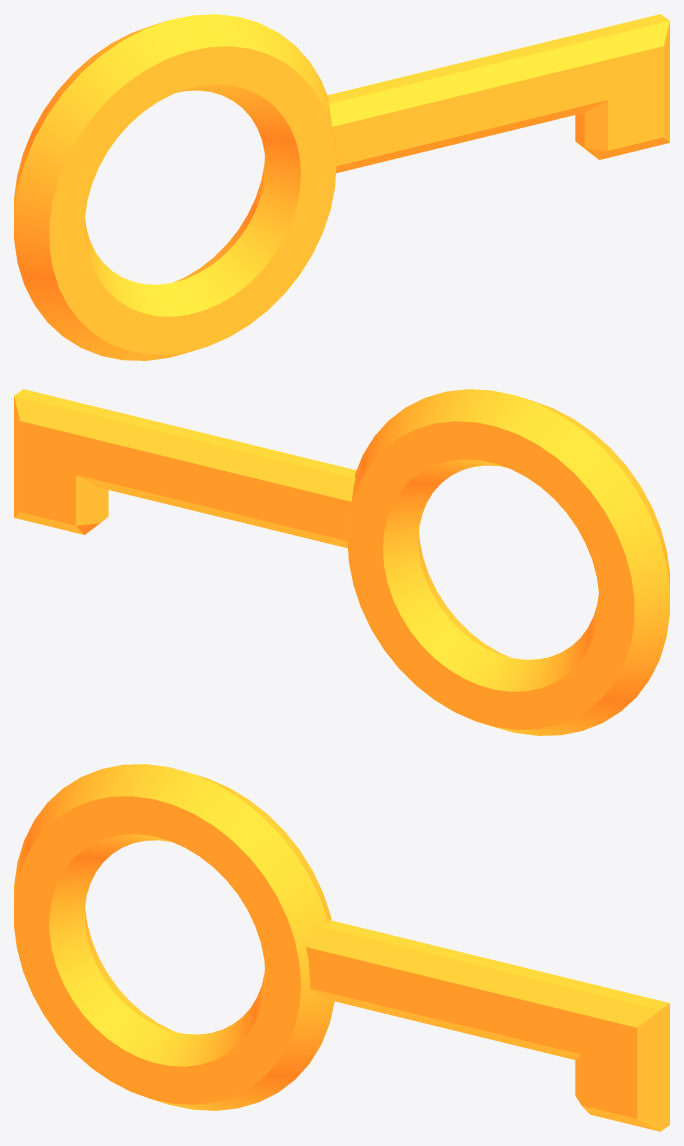
The model's file is Anahtar.fbx.
3 views of the same model, one above another, from view 1: azimuth 30°, elevation 25°; view 2: azimuth 150°, elevation 25°; view 3: azimuth 330°, elevation 25° (orthographic).
Parts seen in each view (by area): view 1: Anahtar; view 2: Anahtar; view 3: Anahtar.
Part boxes in pixels (bbox=[...]): Anahtar: bbox=[14, 14, 669, 360]; Anahtar: bbox=[14, 389, 669, 735]; Anahtar: bbox=[14, 764, 669, 1131].
Bounding box in the file's own units: 348 × 172 × 32.86.
